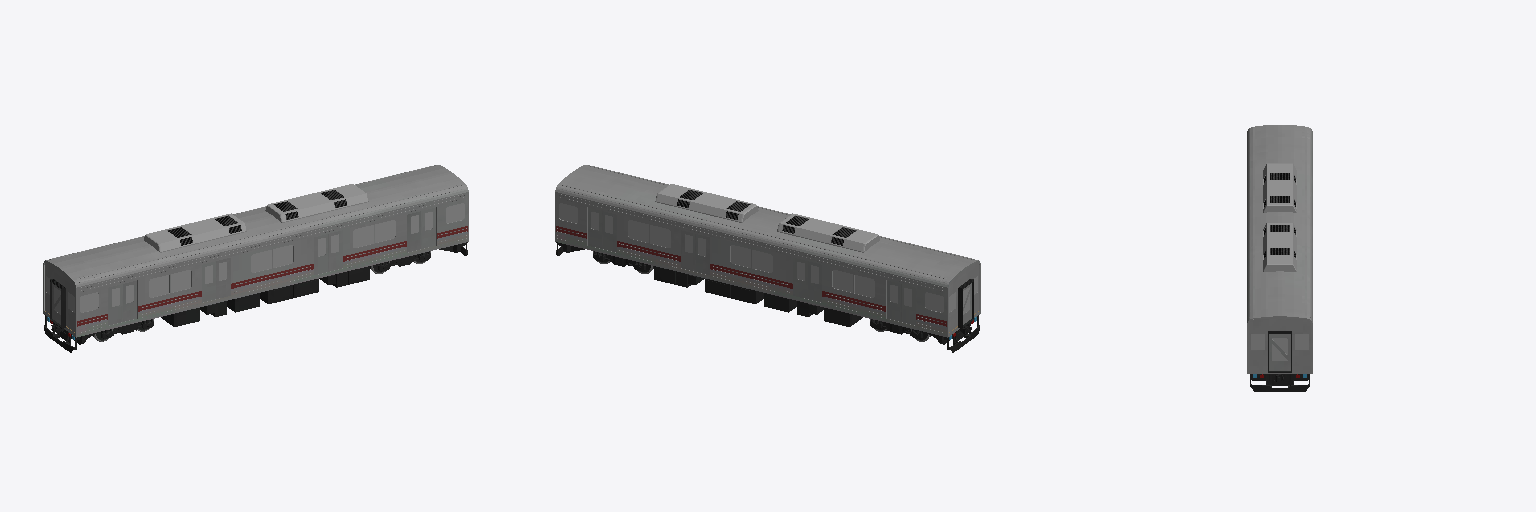
3 renders of one model, left to right at view 1: azimuth 30°, elevation 25°; view 2: azimuth 150°, elevation 25°; view 3: azimuth 270°, elevation 25°, orthographic.
Visible parts, largest first — view 1: FRAME_Cube.001, SHELL_Cube.004; view 2: FRAME_Cube.001, SHELL_Cube.004; view 3: FRAME_Cube.001, SHELL_Cube.004.
Part boxes in pixels (bbox=[...]): FRAME_Cube.001: bbox=[43, 165, 468, 352]; SHELL_Cube.004: bbox=[52, 184, 435, 326]; FRAME_Cube.001: bbox=[555, 165, 980, 352]; SHELL_Cube.004: bbox=[588, 184, 971, 326]; FRAME_Cube.001: bbox=[1247, 125, 1312, 391]; SHELL_Cube.004: bbox=[1263, 163, 1296, 370].
Bounding box in the file's own units: 27.09 × 5.4 × 3.83.
6 materials, 3 textured.